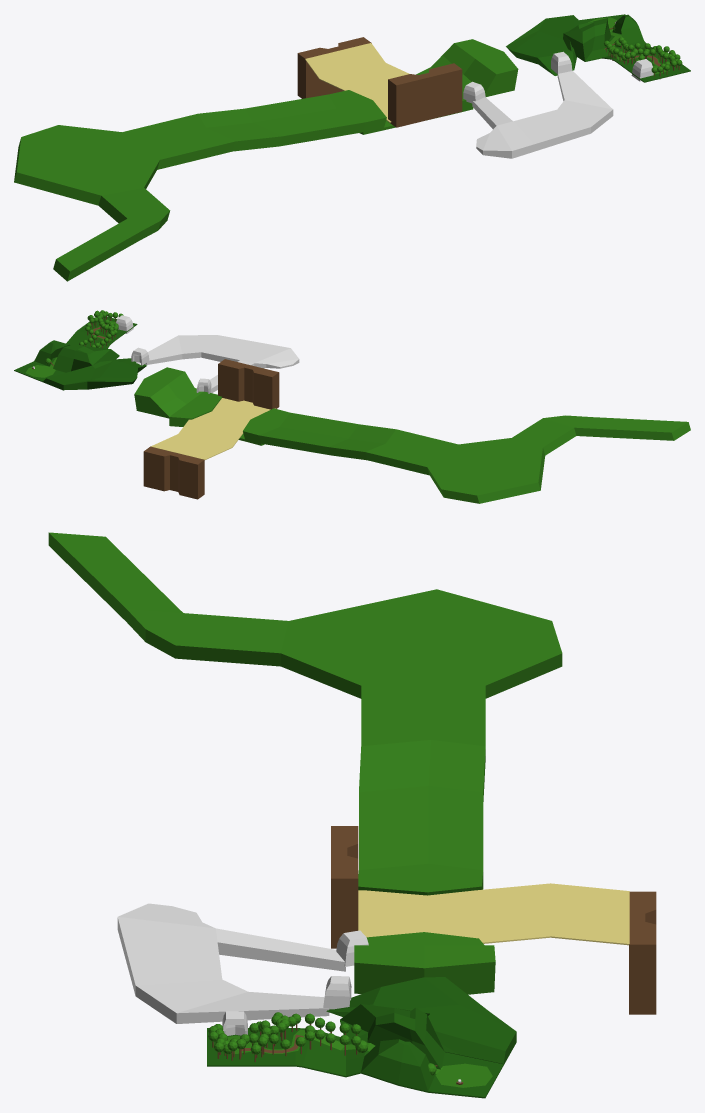
The model's file is map testd.fbx.
The picture shows the model from 3 angles, top to bottom: view 1: azimuth 30°, elevation 25°; view 2: azimuth 150°, elevation 25°; view 3: azimuth 270°, elevation 25°; orthographic projection. The views are drawn at different scales.
Parts seen in each view (by area): view 1: Cube.007, Cube.010, Cube.005, Cube.013, Cube.011, Cube.012; view 2: Cube.007, Cube.005, Cube.010, Cube.011, Cube.012, Cube.013, Plane; view 3: Cube.007, Cube.005, Cube.010, Cube.011, Cube.012, Cube.013, Plane.
Boxes of the visible parts, bbox=[...] form: Cube.007: bbox=[14, 39, 518, 281]; Cube.010: bbox=[472, 71, 613, 158]; Cube.005: bbox=[506, 14, 690, 82]; Cube.013: bbox=[388, 63, 462, 127]; Cube.011: bbox=[305, 43, 409, 122]; Cube.012: bbox=[297, 37, 371, 98]; Cube.007: bbox=[134, 367, 690, 503]; Cube.005: bbox=[14, 316, 146, 390]; Cube.010: bbox=[145, 335, 299, 392]; Cube.011: bbox=[151, 398, 276, 459]; Cube.012: bbox=[143, 446, 204, 499]; Cube.013: bbox=[218, 359, 279, 409]; Plane: bbox=[25, 321, 115, 377]; Cube.007: bbox=[48, 532, 562, 994]; Cube.005: bbox=[207, 977, 516, 1098]; Cube.010: bbox=[117, 903, 345, 1023]; Cube.011: bbox=[358, 883, 629, 945]; Cube.012: bbox=[629, 891, 656, 1014]; Cube.013: bbox=[331, 826, 358, 948]; Plane: bbox=[227, 1029, 492, 1087].
Bounding box in the file's own units: 179342 × 20473 × 83097.
